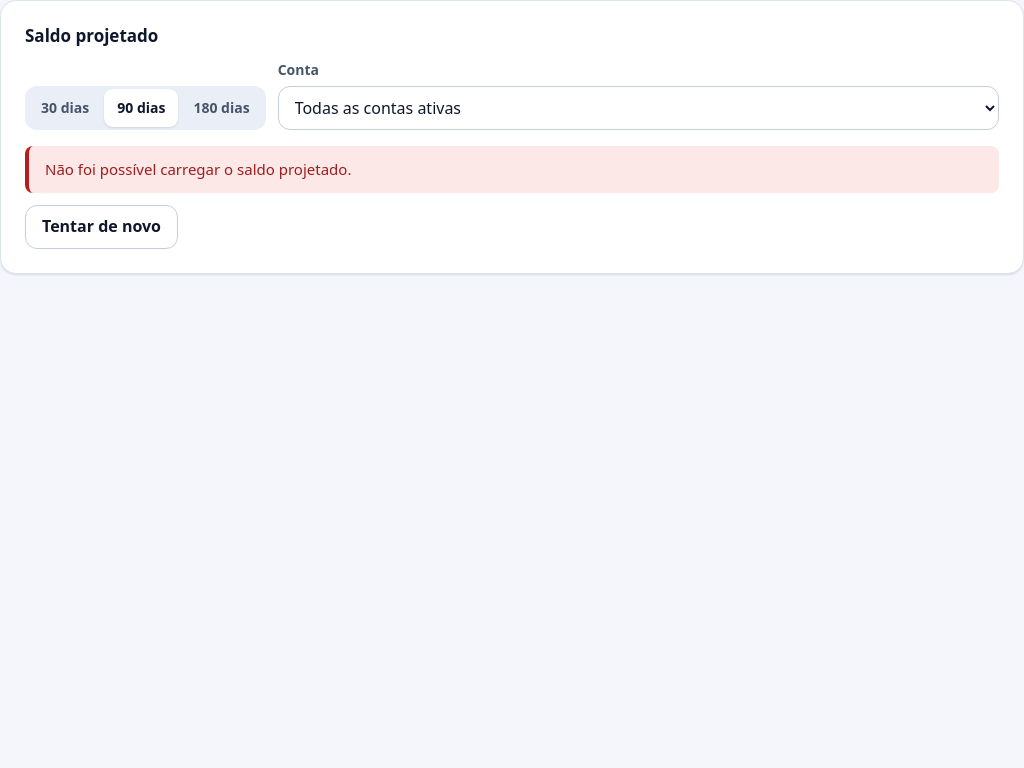
Test case: SaldoProjetado › mostra o erro e tenta de novo
This screenshot has width=1024, height=768.
Check: the message shows "Não foi possível carregar o saldo projetado", box [45,159,351,179]
What coordinates should you click on to do the following:
click the button "Tentar de novo"
I would click on:
 (102, 227)
Its box is [25,205,178,249].
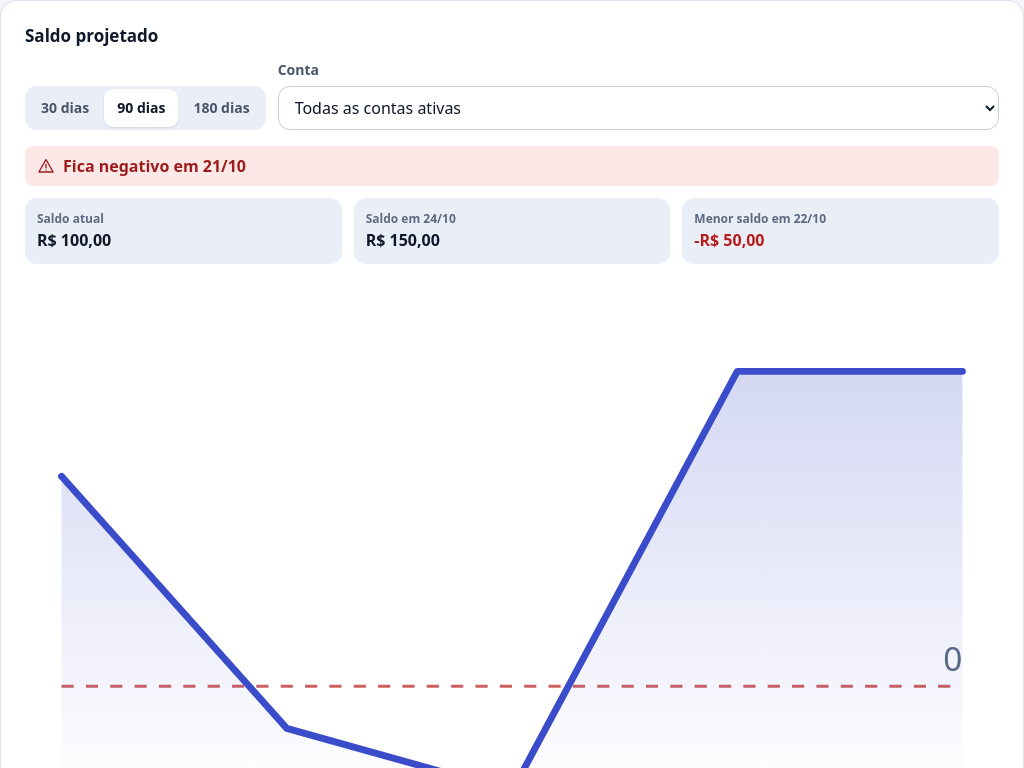
Check: the text "Menor saldo em 22/10" is shown, box [694,210,826,227]
Check: the message "Não foi possível carregar o saldo projetado." is gone
